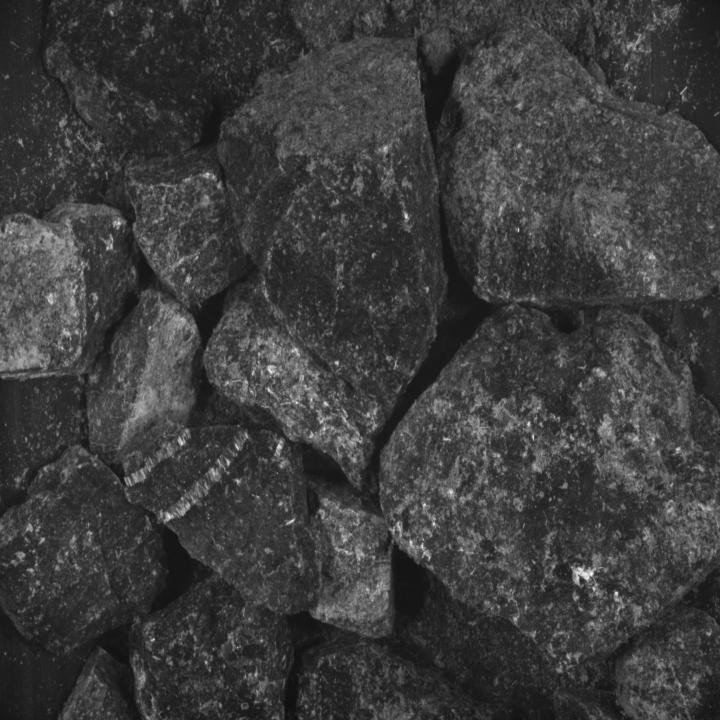stone: (380, 307, 716, 670), (223, 34, 448, 418), (435, 16, 717, 304), (41, 0, 300, 149), (202, 280, 386, 486), (122, 424, 319, 616), (1, 448, 165, 650), (130, 571, 295, 720), (0, 206, 138, 379), (123, 141, 246, 312), (83, 287, 202, 459), (289, 639, 534, 720), (306, 474, 395, 636), (616, 608, 720, 720), (54, 644, 137, 720)
